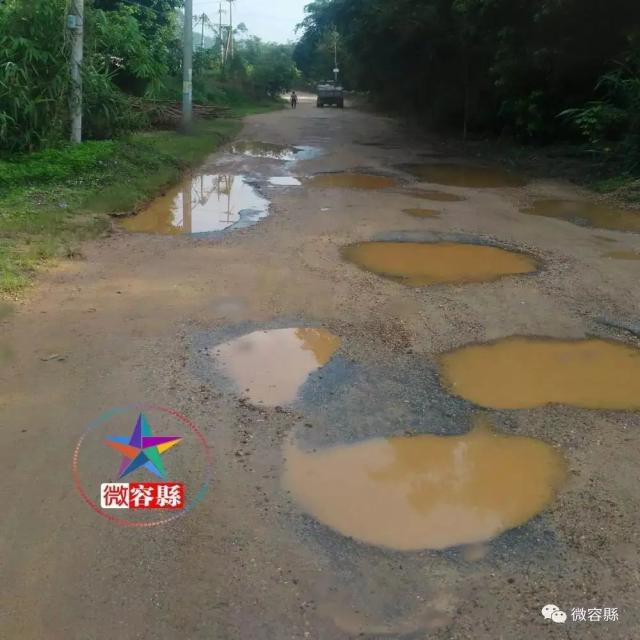Pothole: (280, 430, 569, 552), (427, 331, 639, 414), (206, 323, 345, 416), (122, 166, 275, 240), (337, 239, 547, 288), (526, 200, 640, 236), (404, 160, 536, 191), (289, 167, 396, 198), (216, 133, 314, 163), (398, 204, 446, 223)
